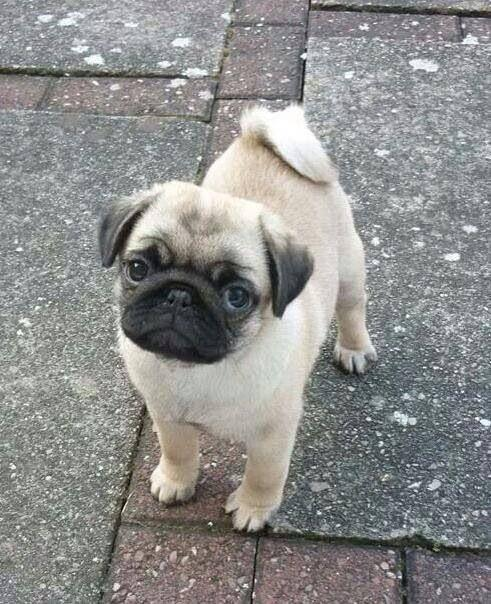puppy-dog: (97, 95, 376, 535)
